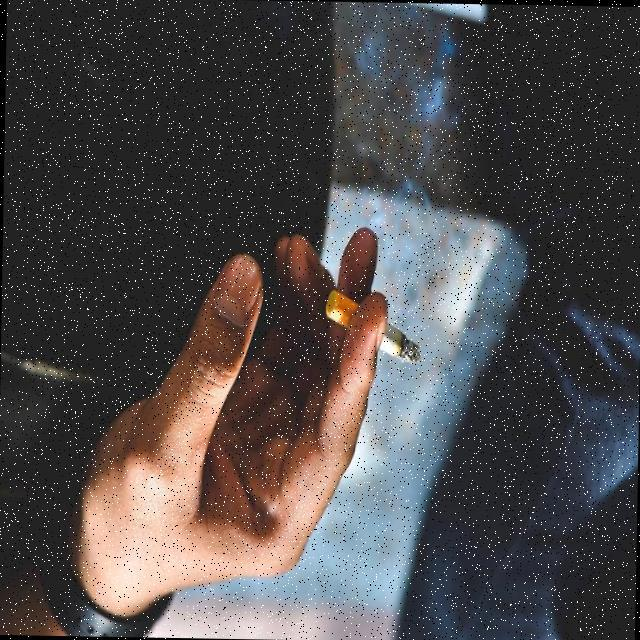cigarette: (321, 288, 422, 364)
